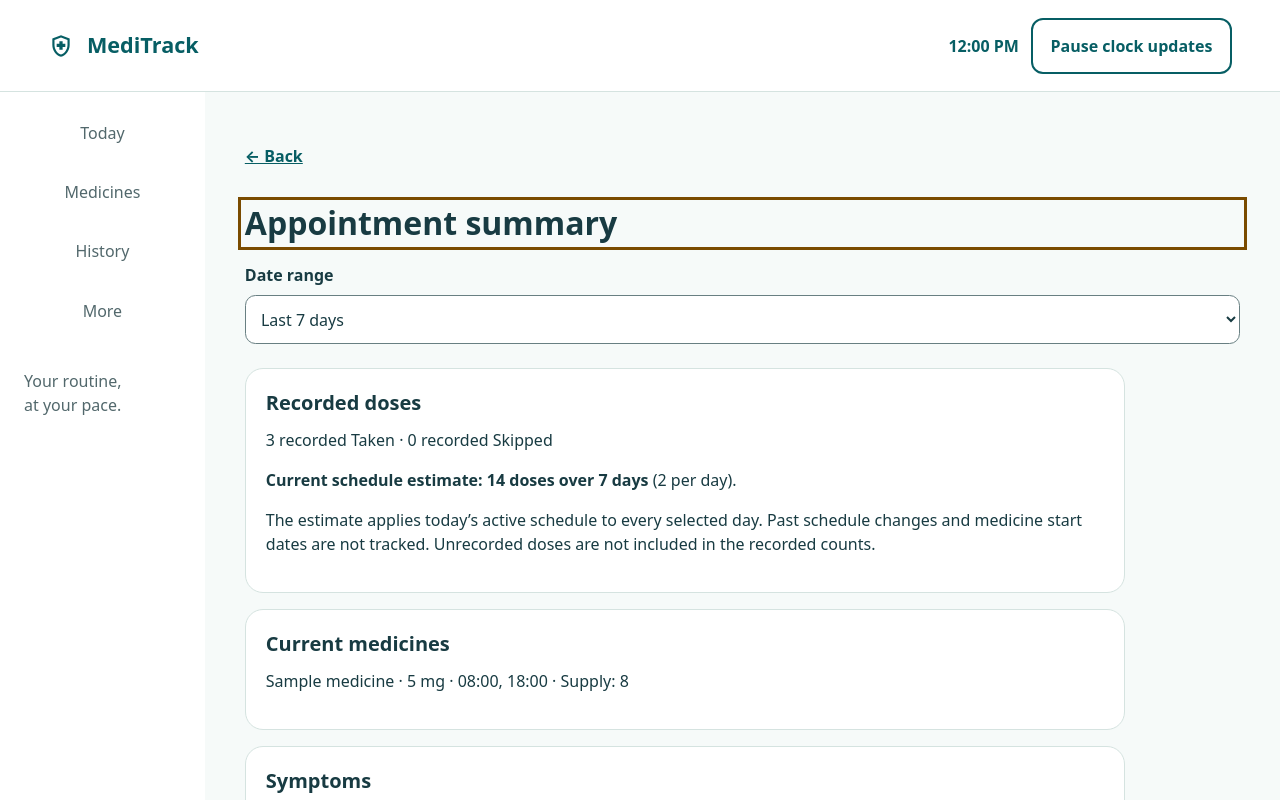
Test: separates recorded activity from the current-schedule estimate without an adherence ratio
The width and height of the screenshot is (1280, 800).
Expected: the text "3 recorded Taken · 0 recorded Skipped" is shown, [266,429,553,451]
Expected: the text "Current schedule estimate: 14 doses over 7 days" is shown, [266,469,649,491]
Select "Last 30 days" in the dropdown labelled "Date range" at (742, 320), box [245,295,1240,344]
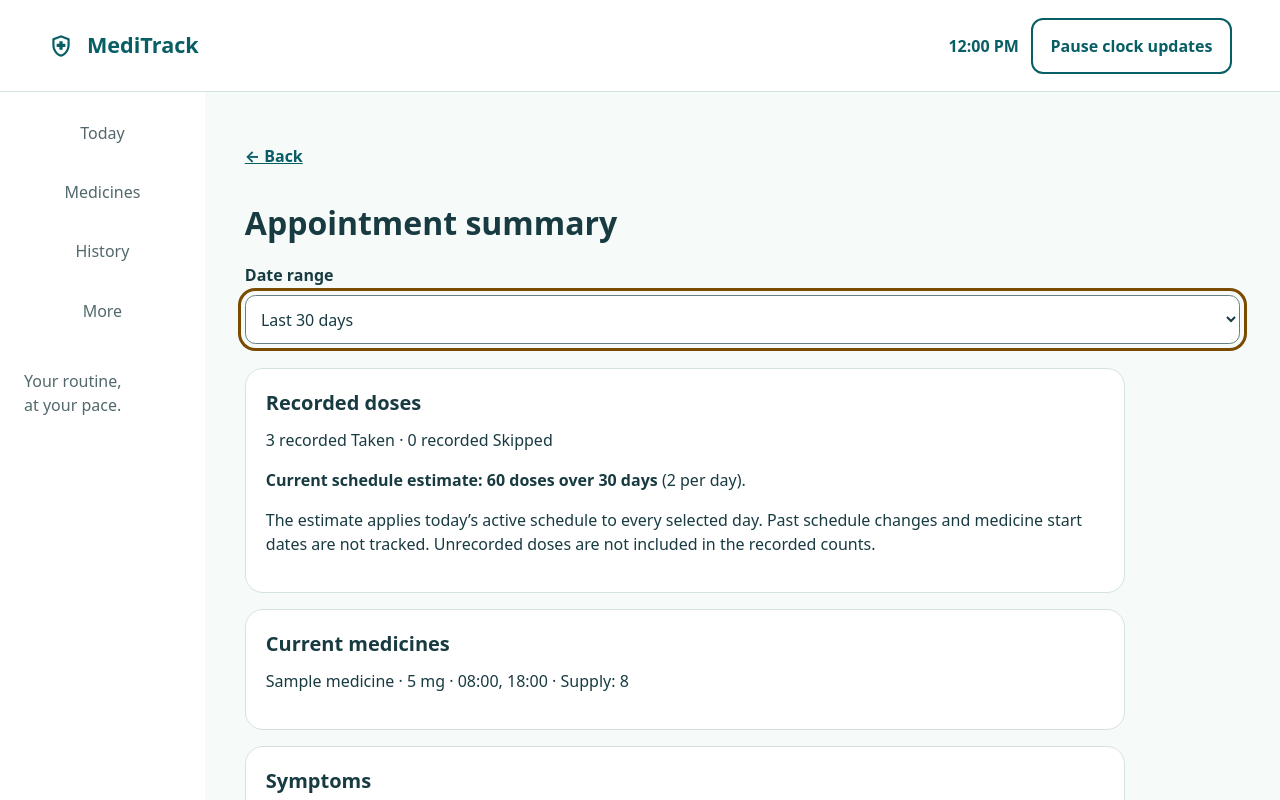
Now the text "Current schedule estimate: 60 doses over 30 days" is shown, box [266,469,658,491]
